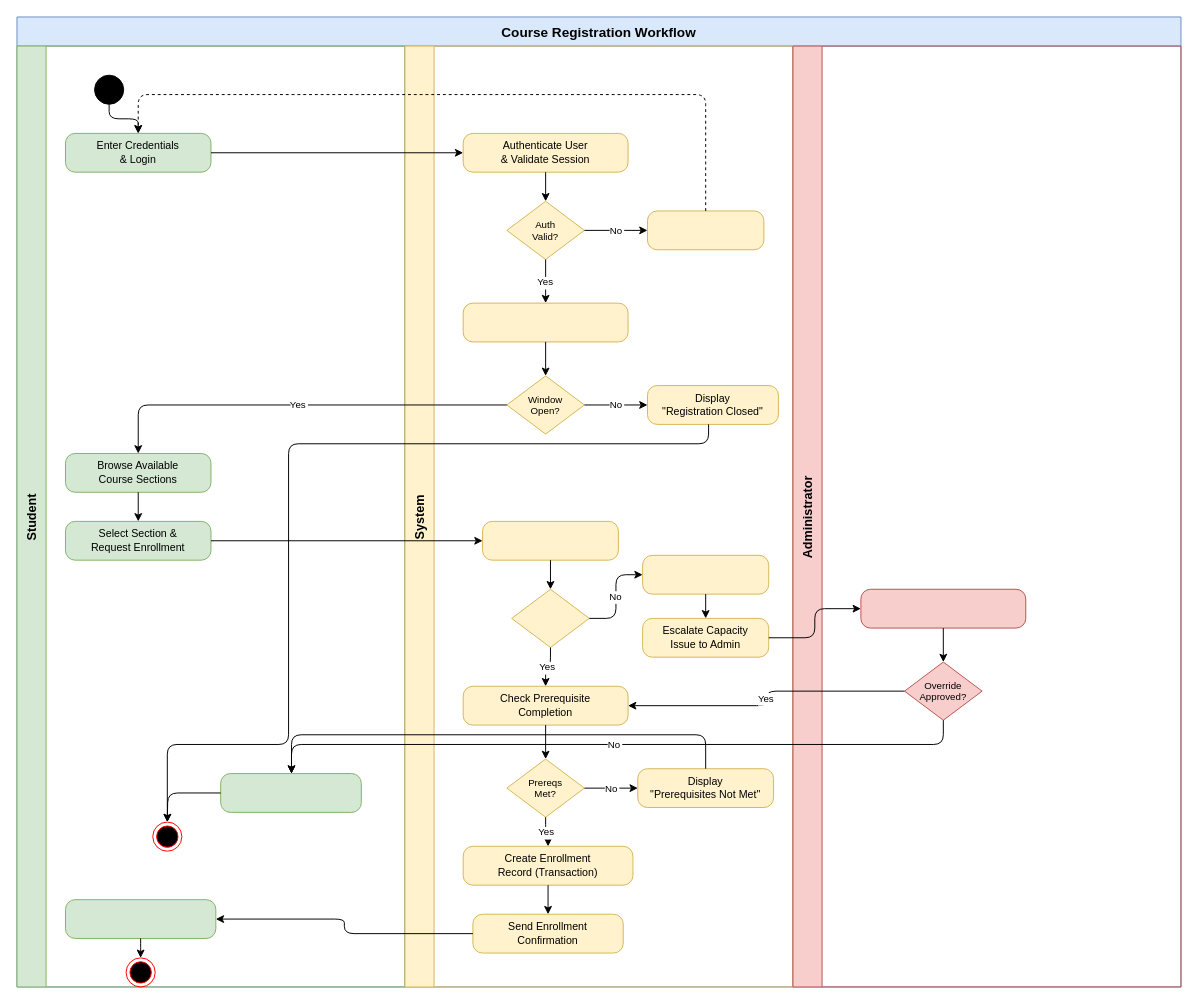
Image size: 1198x1004. Some labels were removed from this diagram. The centre of each missing label's shape, as x and y in pixels:
Capacity Available?: pixel 550 617
Check Registration Window Status: pixel 545 322
Check Section Capacity: pixel 550 540
Display Error Message: pixel 705 230
Notify Student "Section Full": pixel 705 574
Receive Rejection Notice: pixel 290 792
Review & Resolve Capacity Override: pixel 943 608
View Enrollment Confirmation: pixel 140 918
